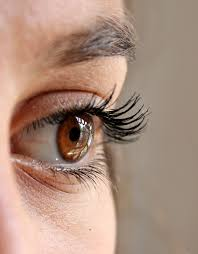pupil: (57, 112, 94, 162)
